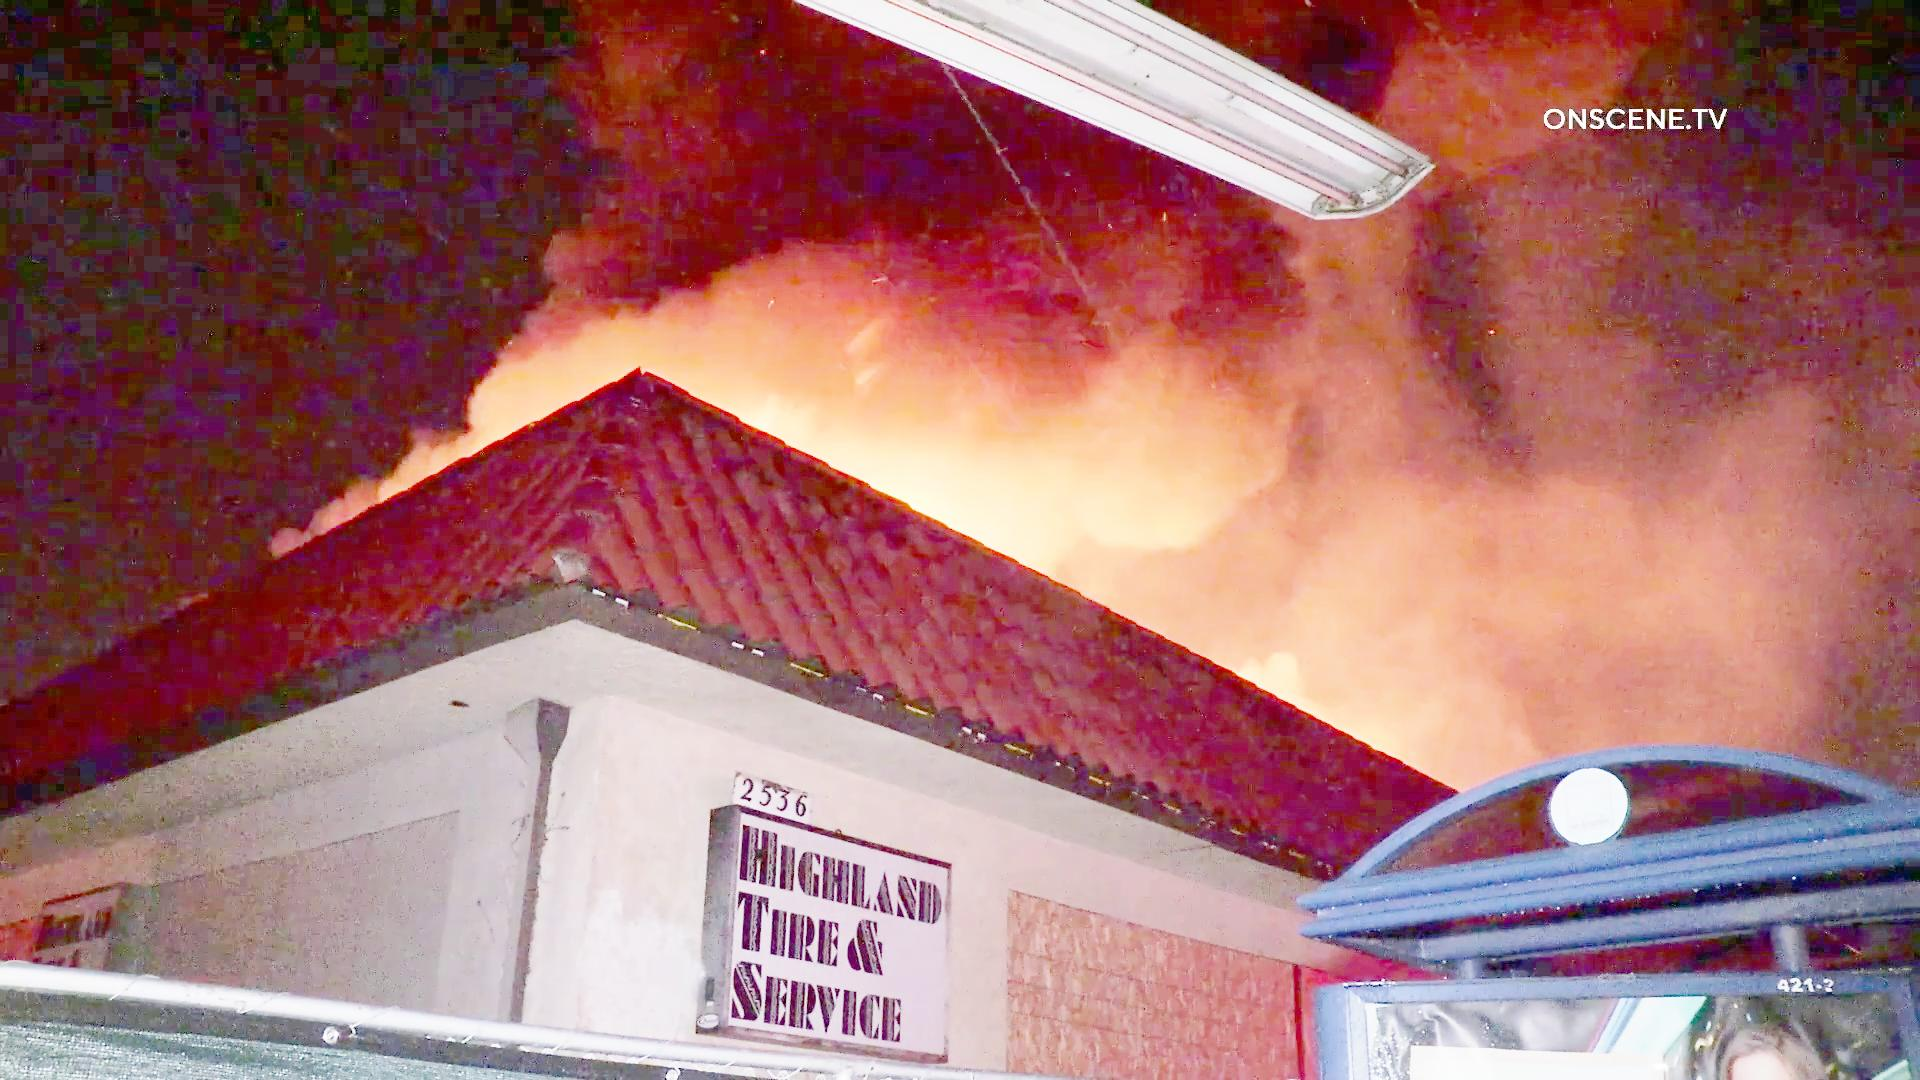smoke: (1130, 282, 1799, 546)
